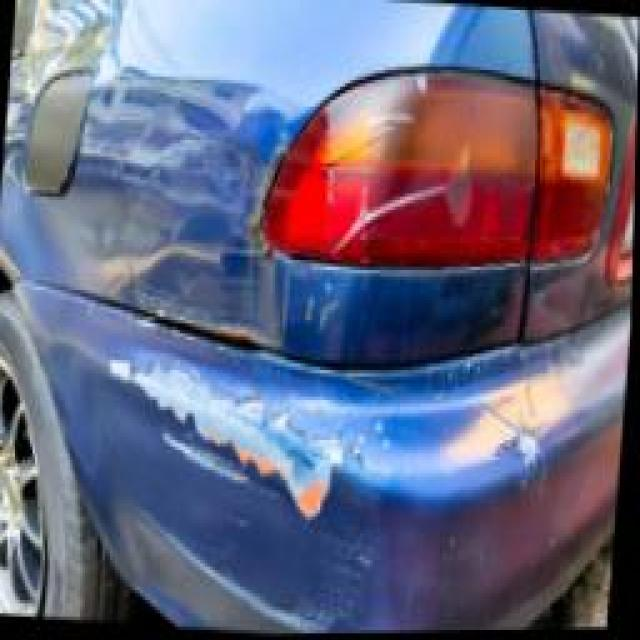Bumper: (28, 310, 607, 639)
Fender: (80, 23, 285, 356)
Light: (270, 73, 529, 277)
